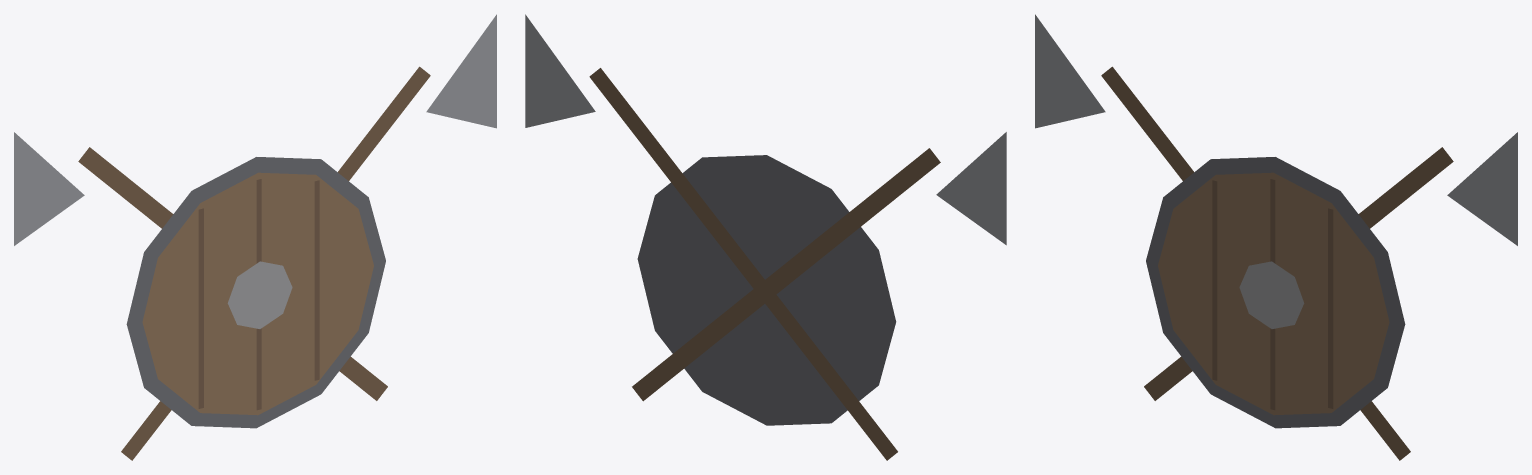
File: escudo_machados.glb
3 views of the same model, side by side, from view 1: azimuth 30°, elevation 25°; view 2: azimuth 150°, elevation 25°; view 3: azimuth 330°, elevation 25° (orthographic).
Parts seen in each view (by area): view 1: Malha_0; view 2: Malha_0; view 3: Malha_0.
Boxes of the visible parts, x1,y1,x2,y2 form: Malha_0: (14, 14, 496, 460); Malha_0: (525, 14, 1006, 460); Malha_0: (1035, 14, 1517, 460).
Size of the model in its own units: 1.5 by 1.07 by 0.03.
